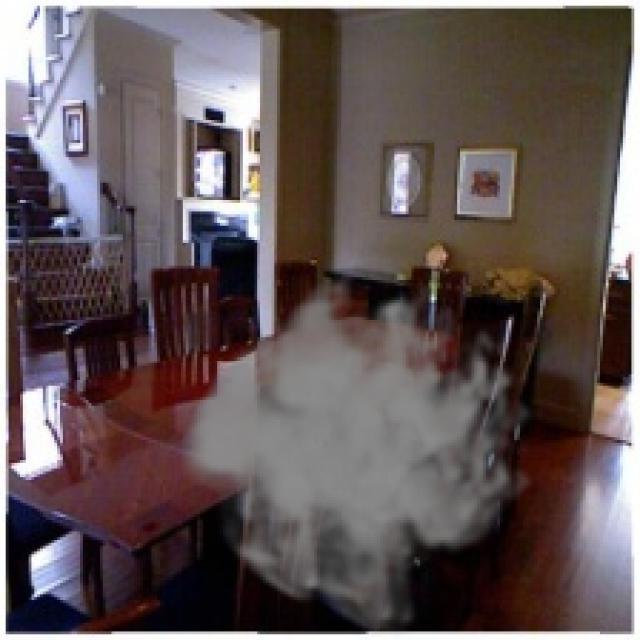Smoke: (177, 260, 537, 637)
